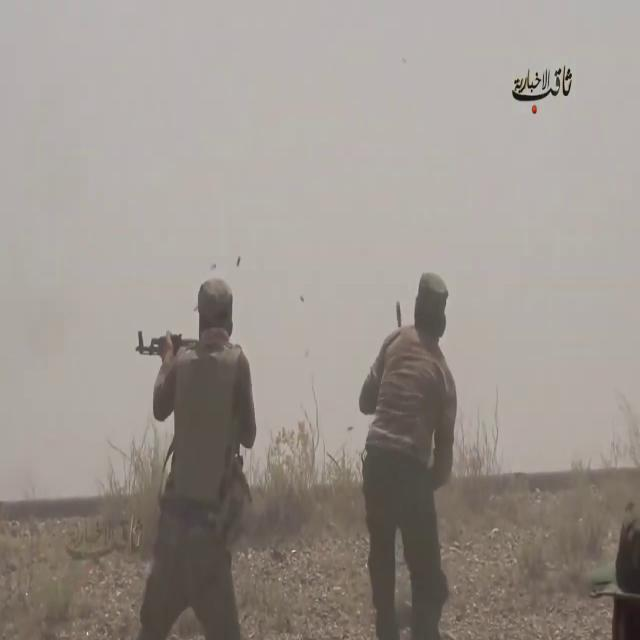long weapon: (121, 330, 201, 381)
